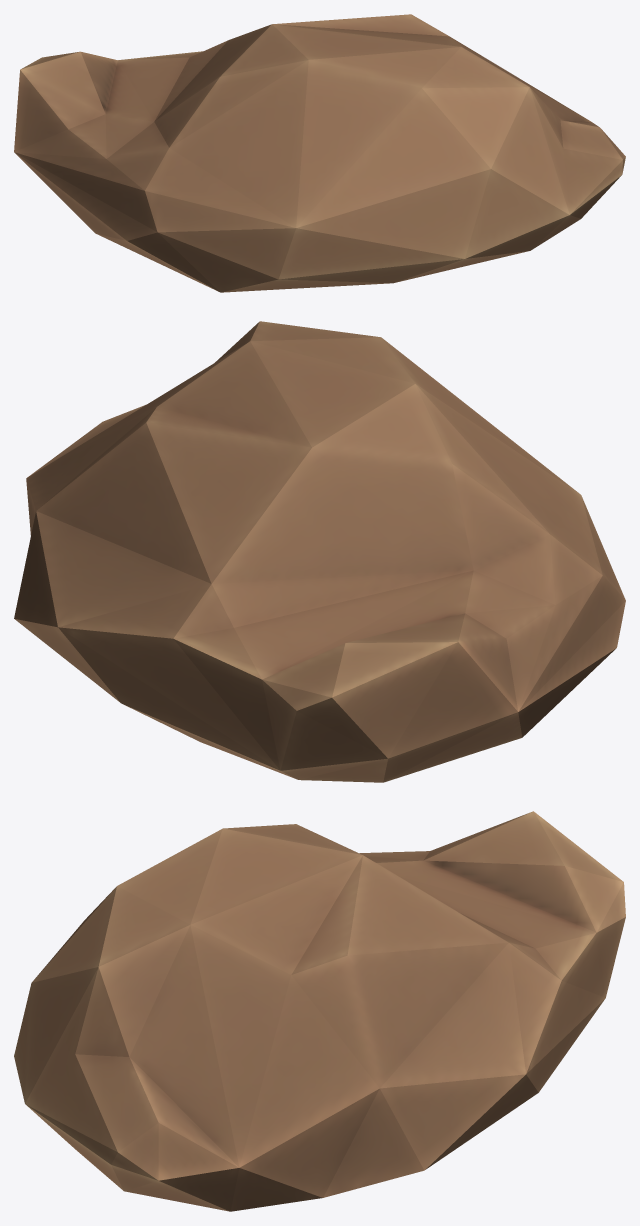
Rendered from Rock_42.fbx.
The picture shows the model from 3 angles, top to bottom: view 1: azimuth 30°, elevation 25°; view 2: azimuth 150°, elevation 25°; view 3: azimuth 270°, elevation 25°; orthographic projection. The views are drawn at different scales.
Visible parts, largest first — view 1: Rock_42; view 2: Rock_42; view 3: Rock_42.
Boxes of the visible parts, bbox=[...] form: Rock_42: bbox=[14, 14, 625, 292]; Rock_42: bbox=[14, 321, 625, 782]; Rock_42: bbox=[14, 811, 625, 1211].
Bounding box in the file's own units: 37.46 × 13.93 × 34.25.
